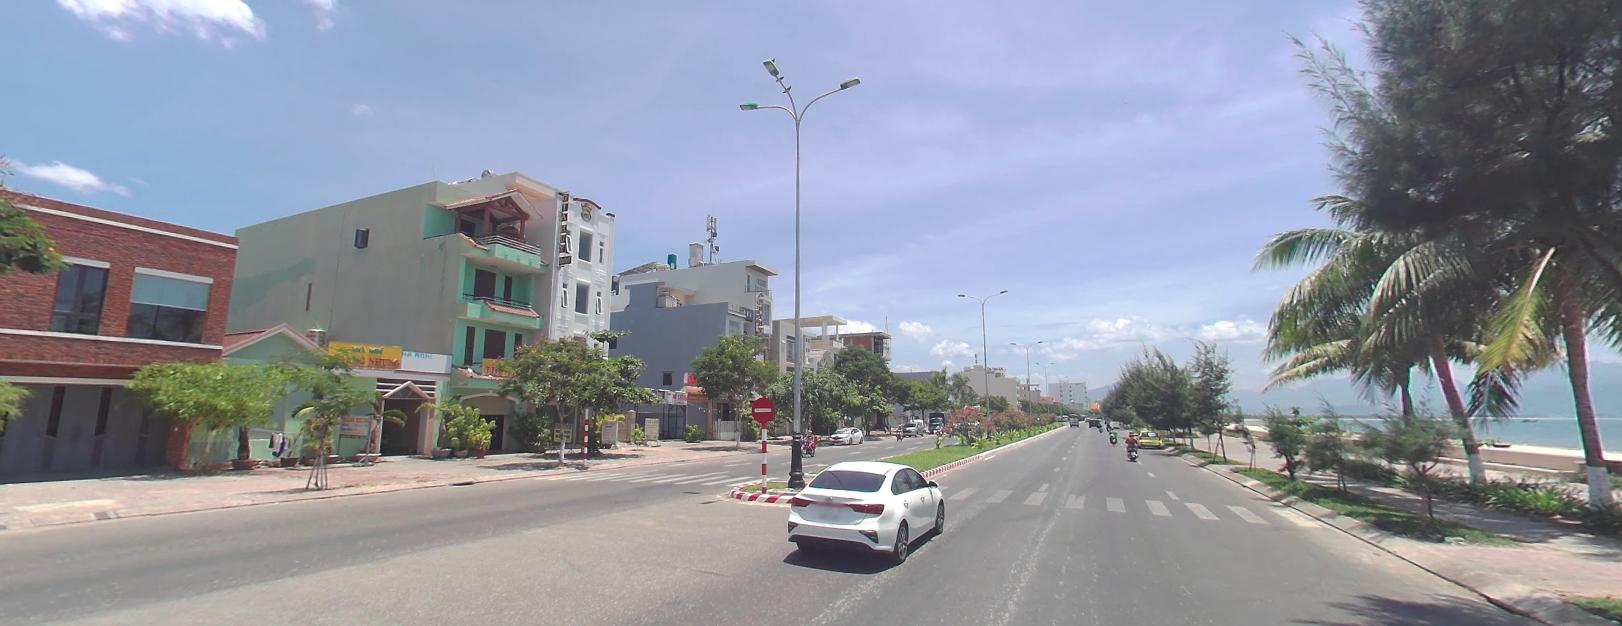Cam nguoc chieu: (751, 396, 773, 420)
